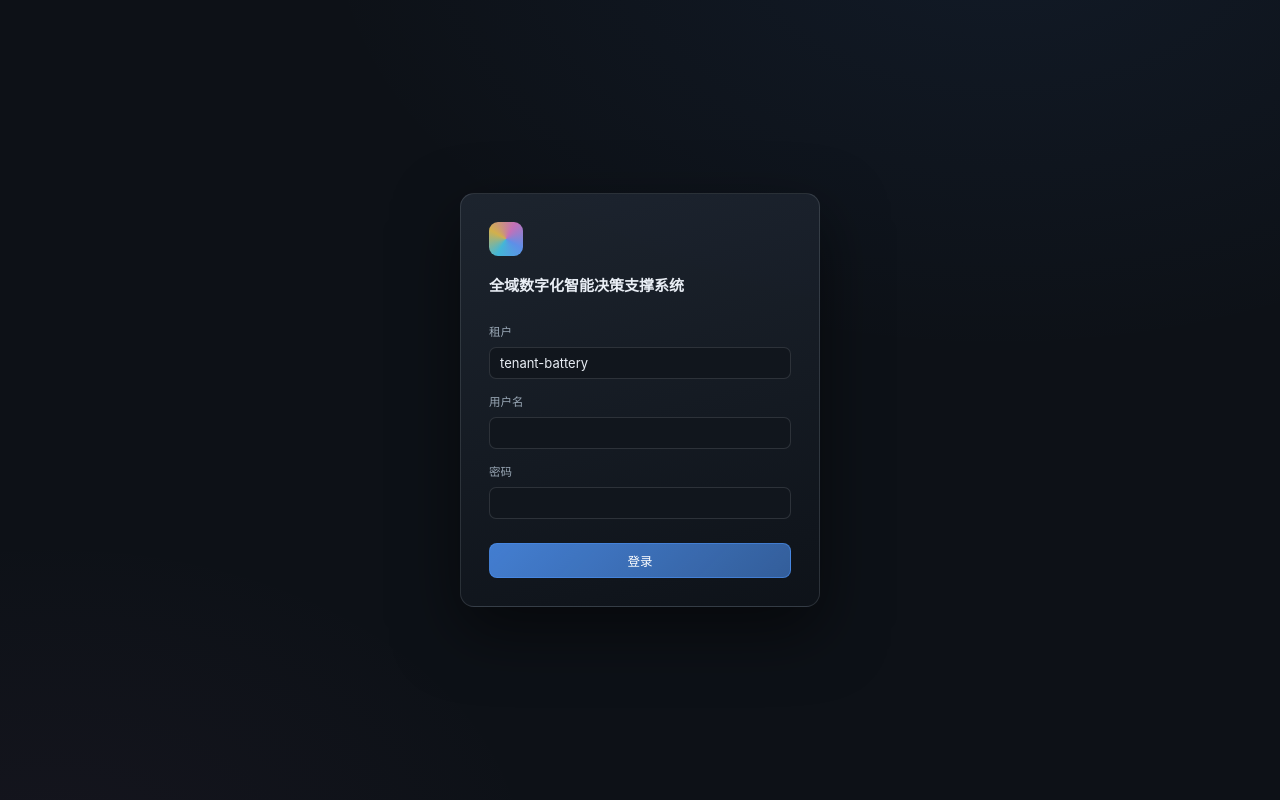
F1 · workspace 驱动的多账号前端 › planner 与 base_manager 导航/主题不同；切账号清空缓存
// 登录 planner（登录页为懒加载路由）
Type "planner" into the field labelled "用户名" at [640, 433], box 489,417 -> 791,449
Type "demo" into the password field labelled "密码" at [640, 503], box 489,487 -> 791,519
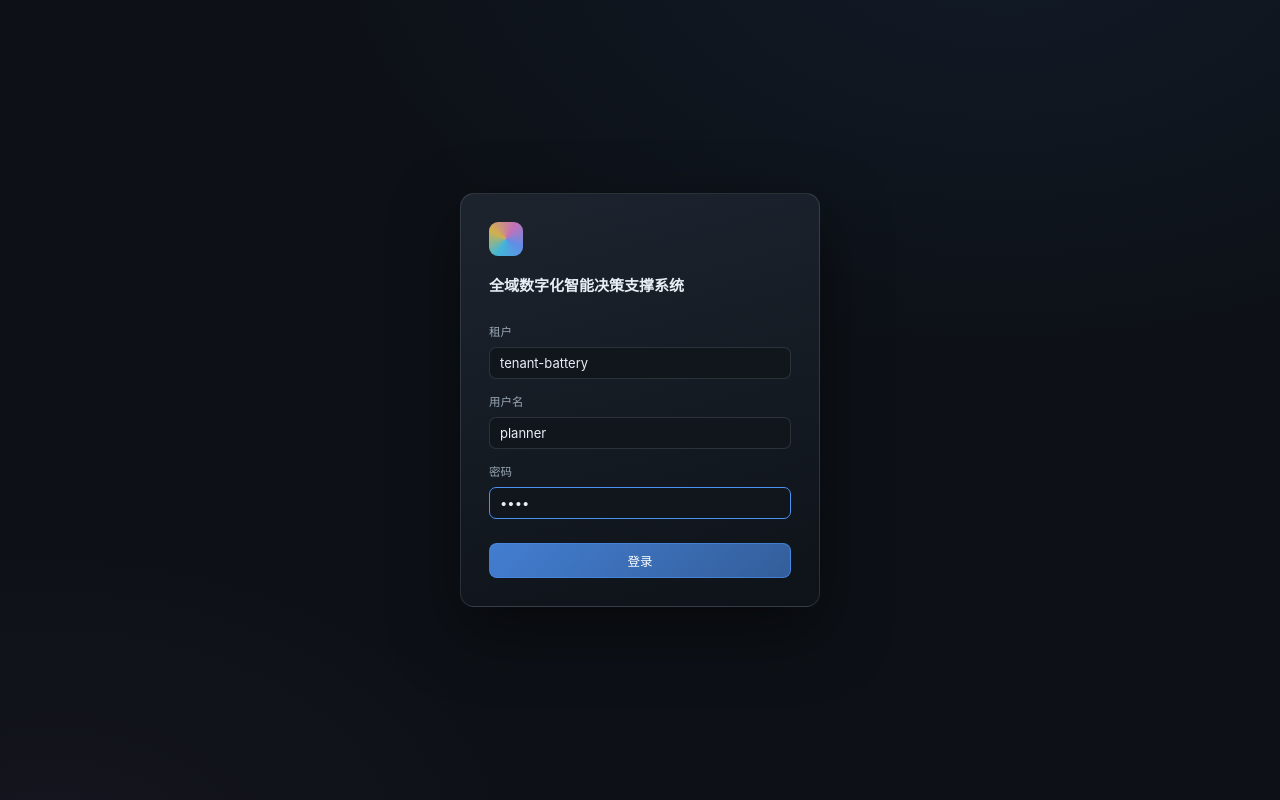
Click the button "登录" at [640, 560], box 489,543 -> 791,578
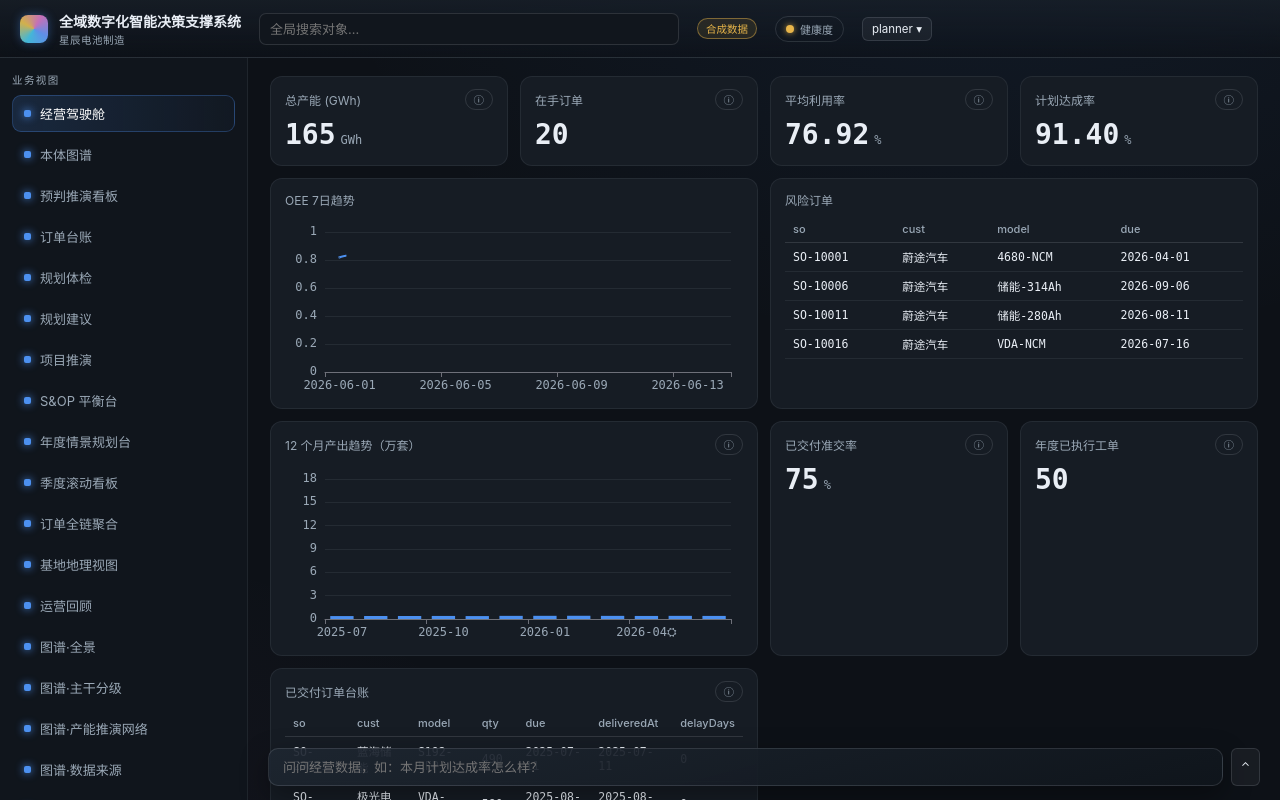
Result: the element with test id "left-nav" is shown at 0,58 -> 248,799
Result: the link "本体图谱" is shown at 24,147 -> 92,163
Result: the link "规划体检" is shown at 24,270 -> 92,286
// 切换账号 → 缓存清空
Click the button with test id "user-menu-btn" at [897, 28], box 862,16 -> 932,40
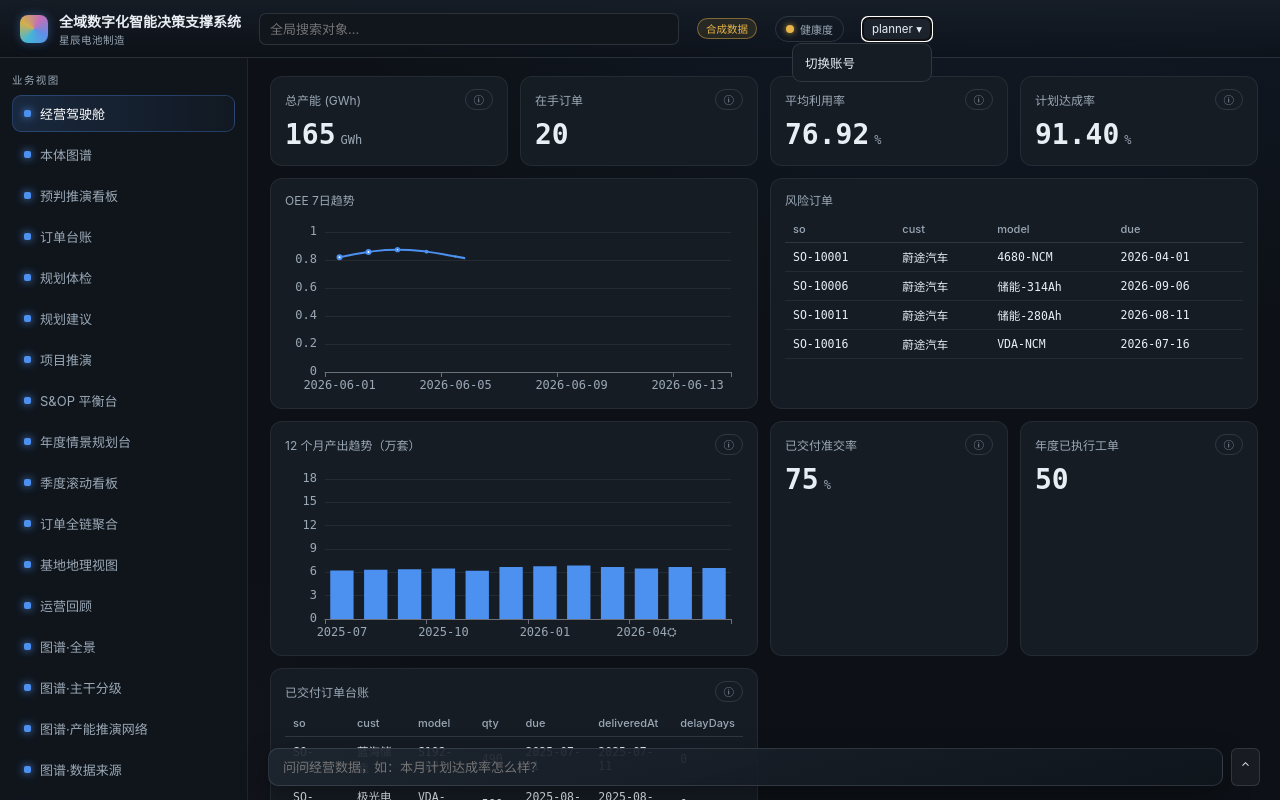
Click the button with test id "logout-btn" at [862, 62], box 793,44 -> 931,81
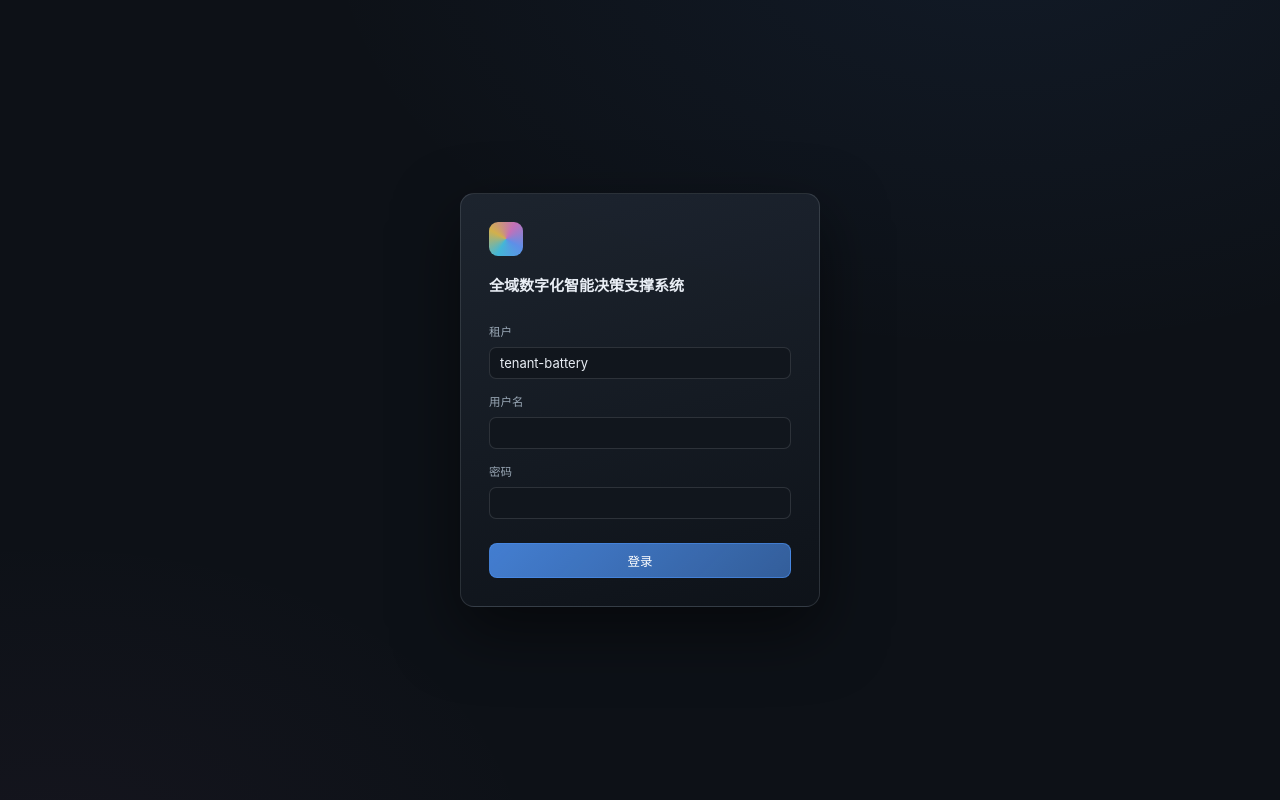
Type "base_manager" into the field labelled "用户名" at [640, 433], box 489,417 -> 791,449
Type "demo" into the password field labelled "密码" at [640, 503], box 489,487 -> 791,519
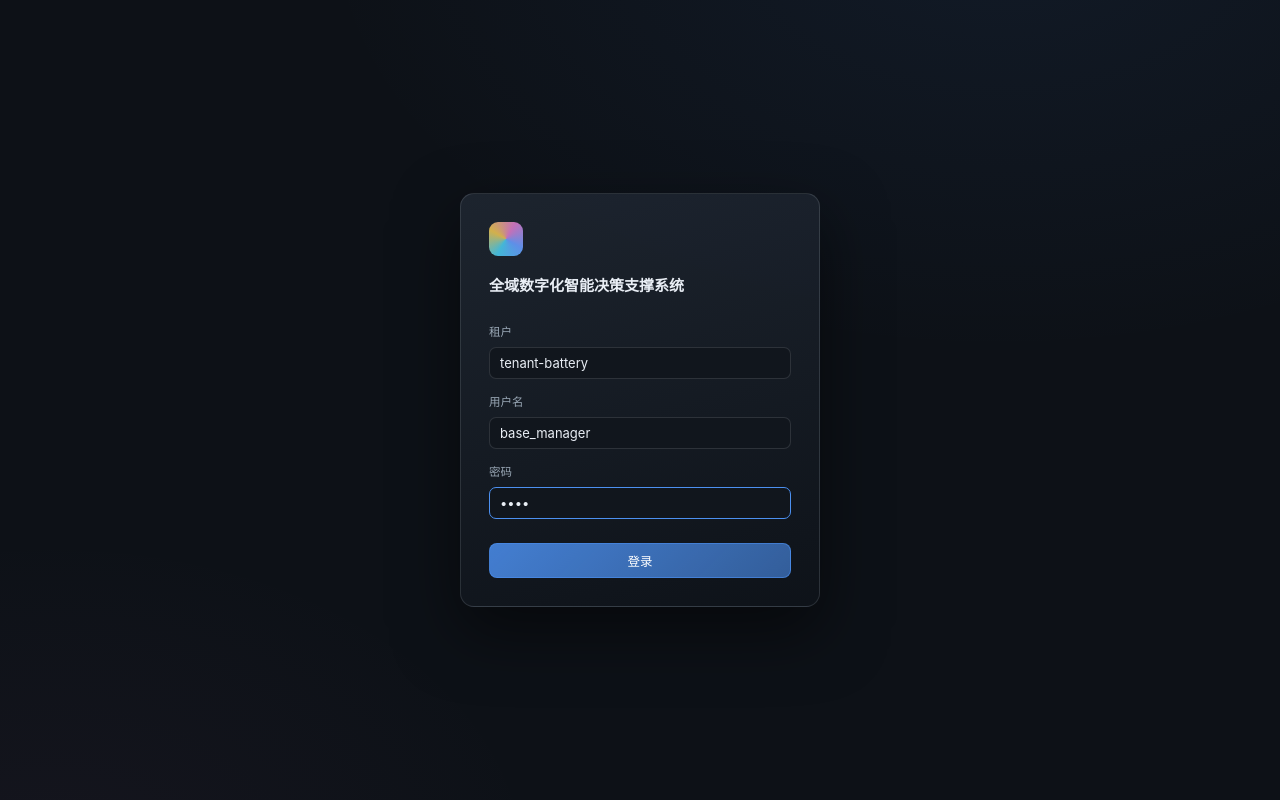
Click the button "登录" at [640, 560], box 489,543 -> 791,578
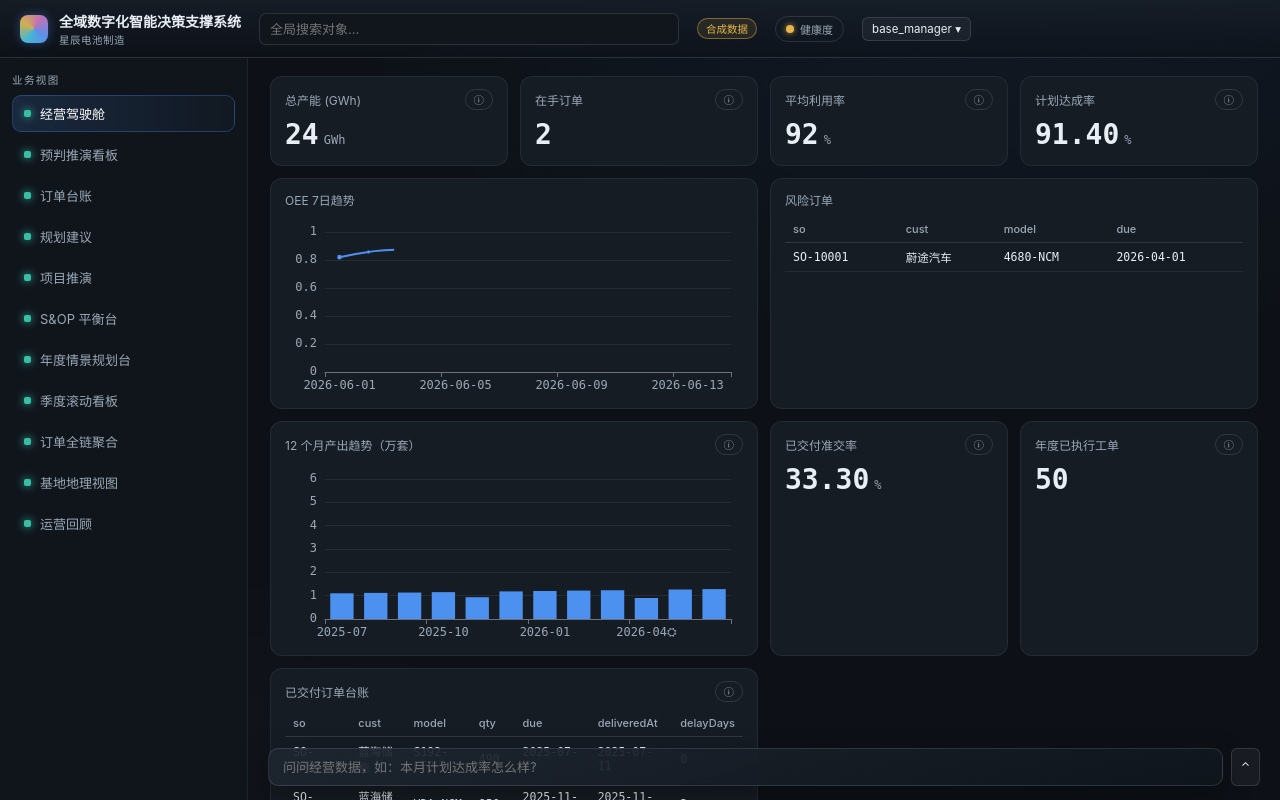
Expected: the link "本体图谱" is not shown
Result: the element with test id "left-nav" is shown at 0,58 -> 248,799
